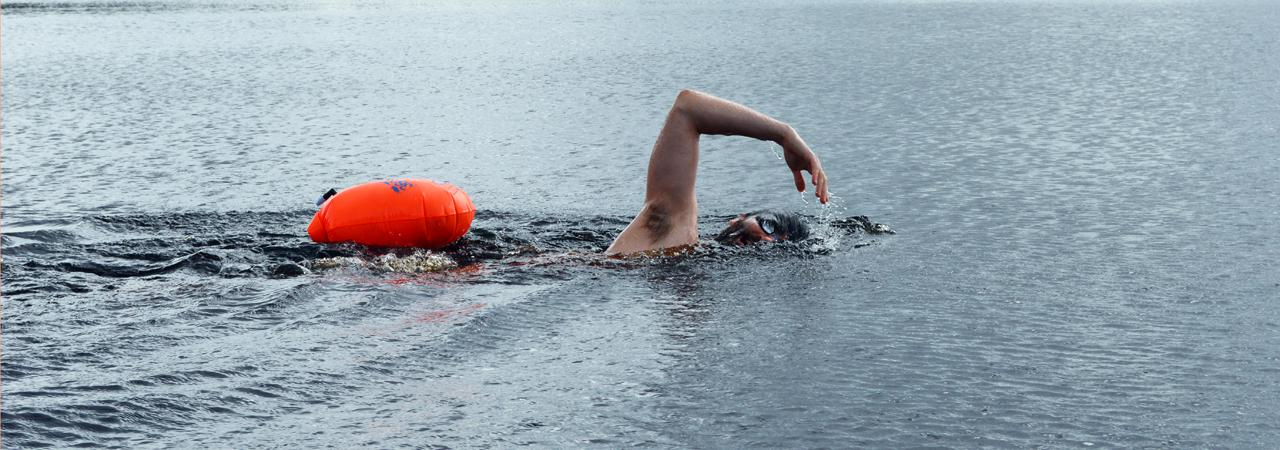swimmer: (585, 87, 855, 273)
